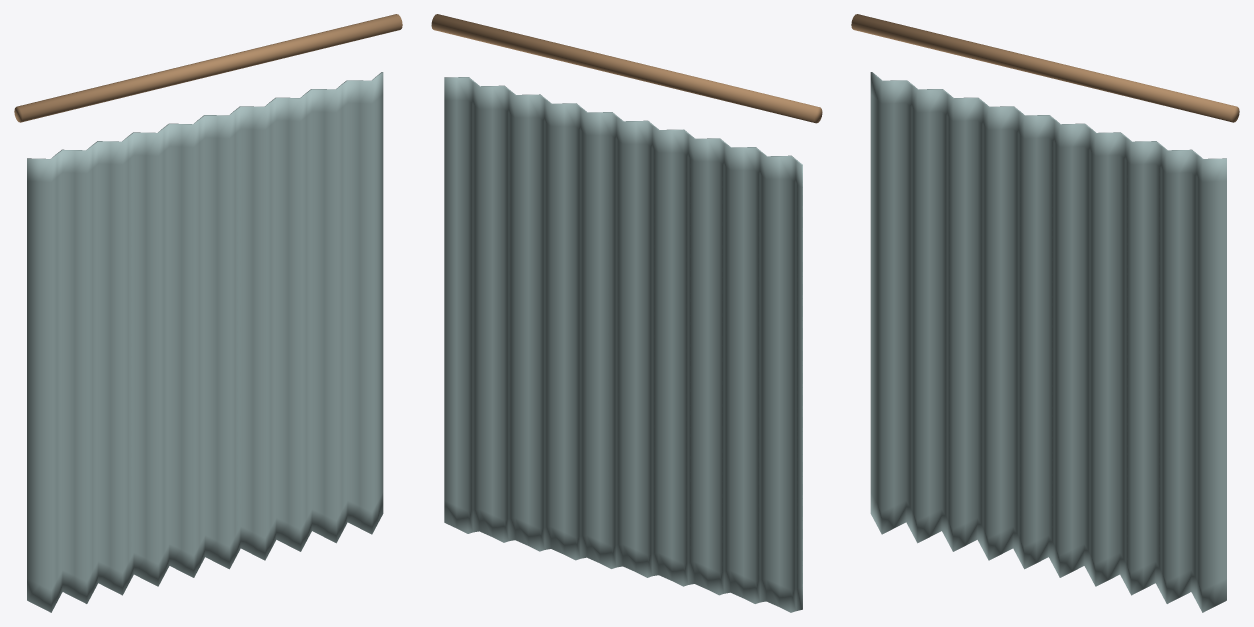
Rendered from atelier-wall-tapestry.glb.
3 renders of one model, left to right at view 1: azimuth 30°, elevation 25°; view 2: azimuth 150°, elevation 25°; view 3: azimuth 330°, elevation 25°, orthographic.
Visible parts, largest first — view 1: fabric.057, legs.121; view 2: fabric.057, legs.121; view 3: fabric.057, legs.121.
Part boxes in pixels (bbox=[...]): fabric.057: bbox=[27, 72, 383, 612]; legs.121: bbox=[14, 14, 402, 122]; fabric.057: bbox=[444, 77, 802, 612]; legs.121: bbox=[431, 14, 822, 123]; fabric.057: bbox=[870, 72, 1226, 612]; legs.121: bbox=[851, 14, 1239, 122].
Bounding box in the file's own units: 0.8 × 1.03 × 0.03.
